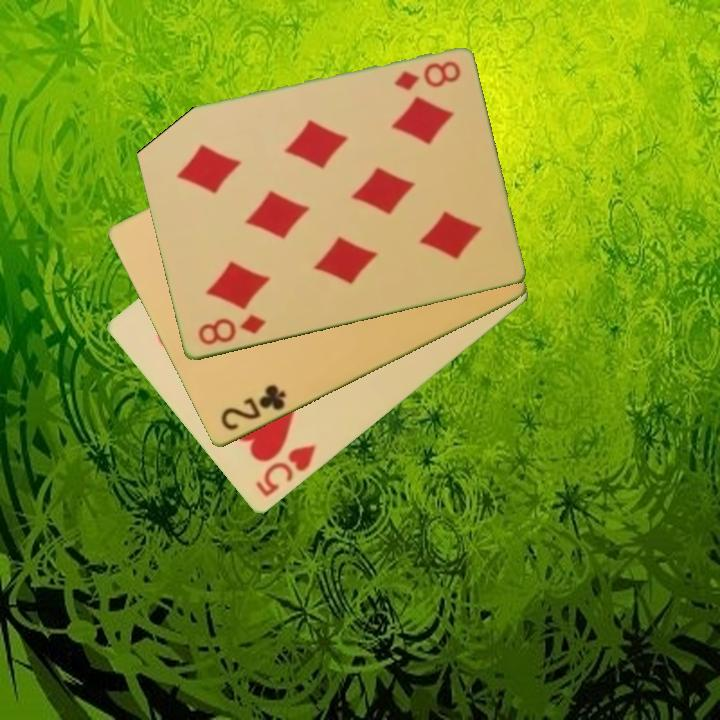2c: (217, 381, 289, 435)
5h: (251, 442, 319, 501)
8d: (194, 311, 269, 349), (390, 58, 463, 94)
